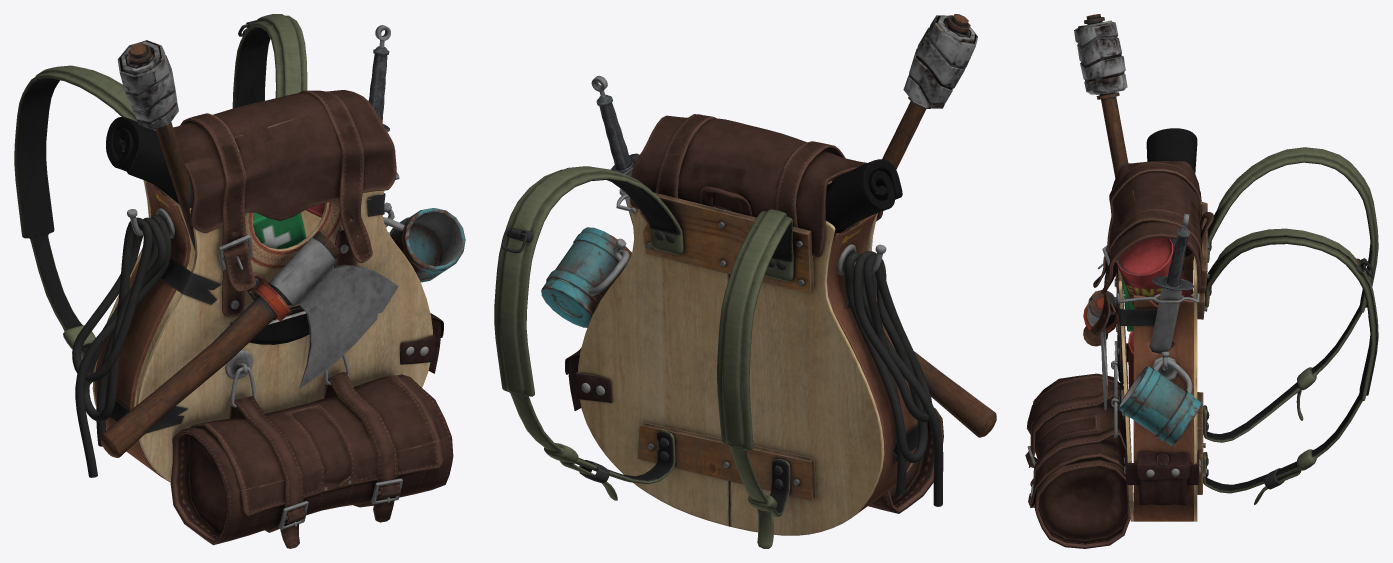
The model's file is backpack2.obj.
The picture shows the model from 3 angles, left to right: view 1: azimuth 30°, elevation 25°; view 2: azimuth 150°, elevation 25°; view 3: azimuth 270°, elevation 25°; orthographic projection. The views are drawn at different scales.
Visible parts, largest first — view 1: Cylinder.030__0, Plane.008__0, Plane.011__0, Cube.050__0, Plane.014__0, Cube.037__0, BezierCurve.003__0, Cylinder.031__0, Cylinder.033__0, Plane.009__0, Cube.051__0, Cylinder.049__0 (+13 smaller); view 2: Plane.010__0, Cube.051__0, Plane.011__0, Cube.050__0, BezierCurve.003__0, Cube.030__0, Plane.009__0, Cube.032__0, Cylinder.049__0, Cylinder.034__0, Cube.047__0, Plane.014__0 (+5 smaller); view 3: Cylinder.030__0, Cube.050__0, Cube.051__0, Plane.009__0, Plane.011__0, Cylinder.049__0, Plane.014__0, Cylinder.034__0, Cylinder.035__0, Cylinder.032__0, Cylinder.031__0, Cube.053__0 (+10 smaller).
Boxes of the visible parts, x1,y1,x2,y2 form: Cylinder.030__0: [170, 374, 453, 545]; Plane.008__0: [136, 190, 432, 482]; Plane.011__0: [173, 90, 396, 233]; Cube.050__0: [14, 65, 155, 384]; Plane.014__0: [180, 90, 372, 316]; Cube.037__0: [268, 237, 398, 388]; BezierCurve.003__0: [72, 215, 171, 477]; Cylinder.031__0: [228, 372, 400, 548]; Cylinder.033__0: [100, 231, 341, 457]; Plane.009__0: [94, 181, 190, 479]; Cube.051__0: [232, 14, 307, 108]; Cylinder.049__0: [383, 208, 465, 282]; Plane.010__0: [578, 196, 884, 535]; Cube.051__0: [494, 166, 683, 500]; Plane.011__0: [630, 115, 883, 257]; Cube.050__0: [717, 209, 793, 548]; BezierCurve.003__0: [844, 251, 943, 506]; Cube.030__0: [639, 192, 814, 293]; Plane.009__0: [827, 213, 917, 515]; Cube.032__0: [637, 422, 815, 500]; Cylinder.049__0: [541, 227, 631, 327]; Cylinder.034__0: [903, 15, 977, 108]; Cube.047__0: [825, 159, 902, 235]; Plane.014__0: [655, 114, 845, 227]; Cylinder.030__0: [1026, 373, 1130, 548]; Cube.050__0: [1203, 147, 1378, 442]; Cube.051__0: [1203, 228, 1378, 504]; Plane.009__0: [1133, 252, 1193, 521]; Plane.011__0: [1101, 161, 1200, 294]; Cylinder.049__0: [1118, 359, 1201, 445]; Plane.014__0: [1090, 161, 1202, 364]; Cylinder.034__0: [1074, 20, 1127, 94]; Cylinder.035__0: [1116, 237, 1190, 305]; Cylinder.032__0: [1150, 213, 1194, 353]; Cylinder.031__0: [1025, 388, 1126, 507]; Cube.053__0: [1125, 449, 1199, 505].
Bounding box in the file's own units: 3.74 × 4.63 × 3.47.
